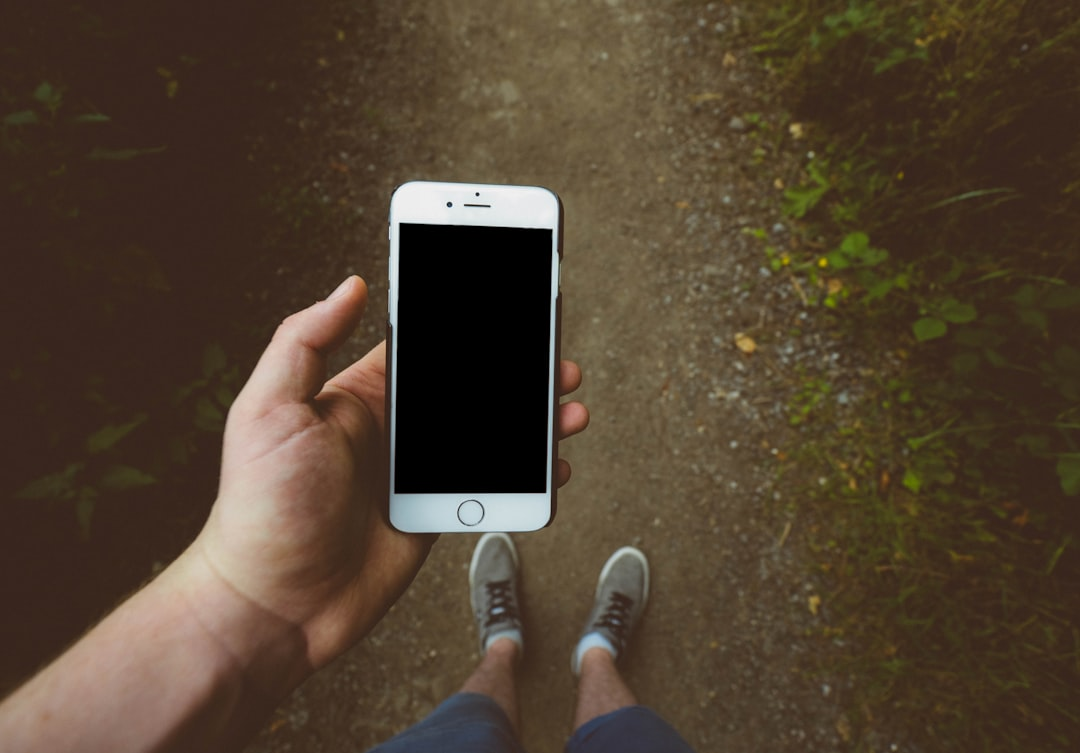phone: (384, 182, 565, 539)
